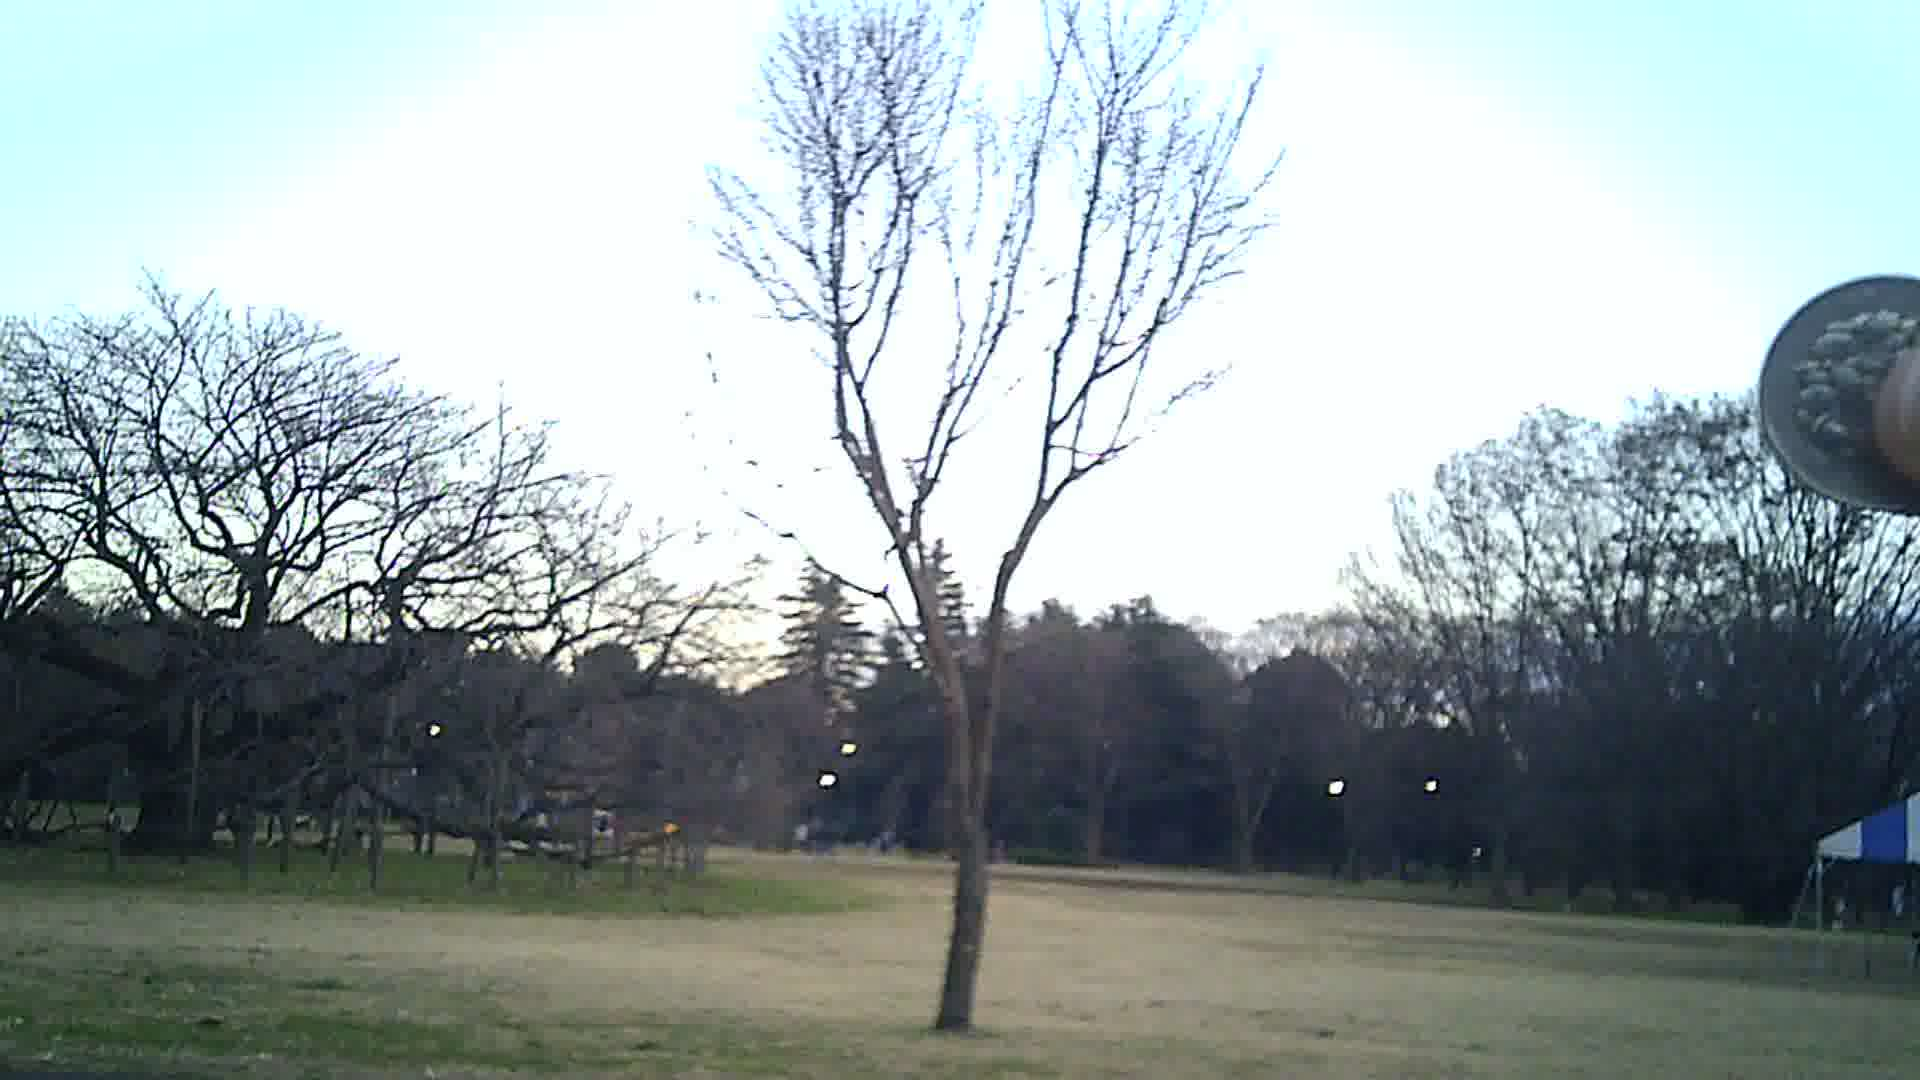100 Yen: (1760, 268, 1919, 506)
